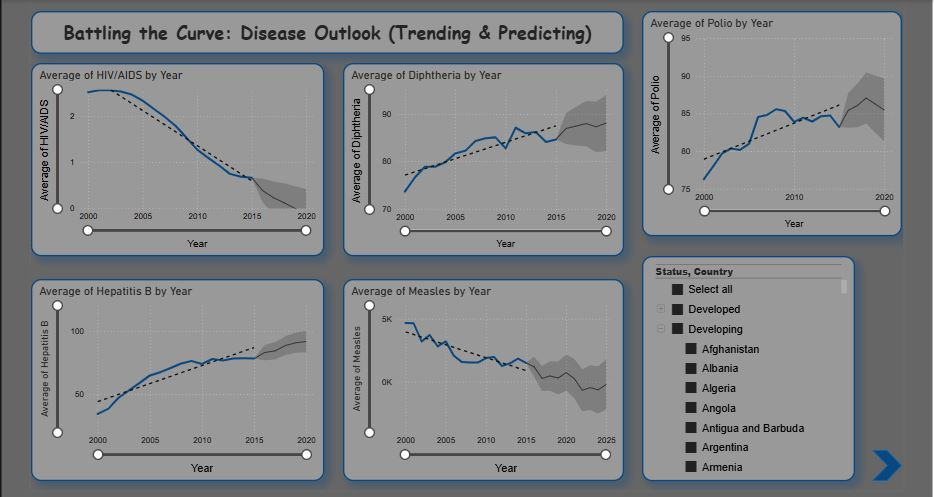

The page's visual inventory and layout, read from the dashboard file:
{"tool":"powerbi","page":{"name":"Disease trends and Forecasts","canvas":[1280,720],"ordinal":1},"visuals":[{"type":"lineChart","fields":{"Category":["Life Expectancy Data.Year.Variation.Date Hierarchy.Year"],"Y":["Avg(Life Expectancy Data. HIV/AIDS)"]},"box":[0,92.6,430.5,283.6],"z":0},{"type":"lineChart","fields":{"Category":["Life Expectancy Data.Year.Variation.Date Hierarchy.Year"],"Y":["Avg(Life Expectancy Data.Diphtheria )"]},"box":[458.4,92.6,412.9,283.6],"z":1000},{"type":"lineChart","fields":{"Category":["Life Expectancy Data.Year.Variation.Date Hierarchy.Year"],"Y":["Avg(Life Expectancy Data.Hepatitis B)"]},"box":[0,410,430.5,296.8],"z":2000},{"type":"lineChart","fields":{"Category":["Life Expectancy Data.Year.Variation.Date Hierarchy.Year"],"Y":["Avg(Life Expectancy Data.Measles )"]},"box":[458.4,410,412.9,296.8],"z":3000},{"type":"lineChart","fields":{"Category":["Life Expectancy Data.Year.Variation.Date Hierarchy.Year"],"Y":["Avg(Life Expectancy Data.Polio)"]},"box":[897.8,16.2,382,330.6],"z":4000},{"type":"slicer","fields":{"Values":["Life Expectancy Data.Status Hierarchy.Status","Life Expectancy Data.Status Hierarchy.Country"]},"box":[897.8,376.2,313,330.6],"z":5000},{"type":"textbox","box":[0,16.2,871.3,63.2],"z":6000},{"type":"shape","box":[1235.8,661.2,44.1,45.6],"z":7000}]}

Visuals, with their boxes on the page's 1280x720 design canvas (x1, y1, x2, y2). These are canvas units, not pixel positions in the 934x497 screenshot, which may show the page scaled, cropped or inside an application window:
lineChart - Life Expectancy Data.Year.Variation.Date Hierarchy.Year x Avg(Life Expectancy Data. HIV/AIDS): (0,93,430,376)
lineChart - Life Expectancy Data.Year.Variation.Date Hierarchy.Year x Avg(Life Expectancy Data.Diphtheria ): (458,93,871,376)
lineChart - Life Expectancy Data.Year.Variation.Date Hierarchy.Year x Avg(Life Expectancy Data.Hepatitis B): (0,410,430,707)
lineChart - Life Expectancy Data.Year.Variation.Date Hierarchy.Year x Avg(Life Expectancy Data.Measles ): (458,410,871,707)
lineChart - Life Expectancy Data.Year.Variation.Date Hierarchy.Year x Avg(Life Expectancy Data.Polio): (898,16,1280,347)
slicer - Life Expectancy Data.Status Hierarchy.Status x Life Expectancy Data.Status Hierarchy.Country: (898,376,1211,707)
textbox: (0,16,871,79)
shape: (1236,661,1280,707)
